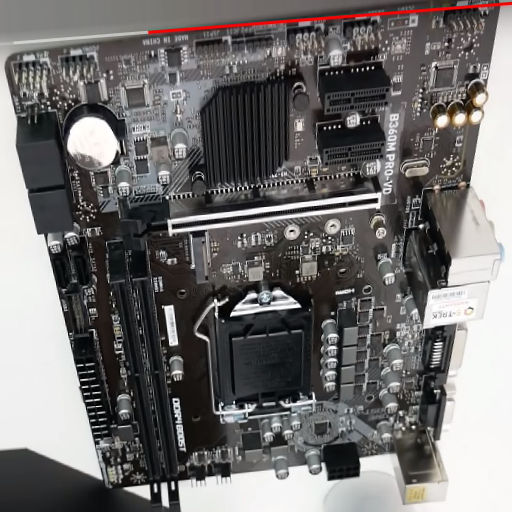CPU: (215, 286, 317, 424)
GPU: (123, 182, 383, 250)
MOTHERBOARD: (7, 1, 502, 487)
RAM: (105, 244, 182, 512)
